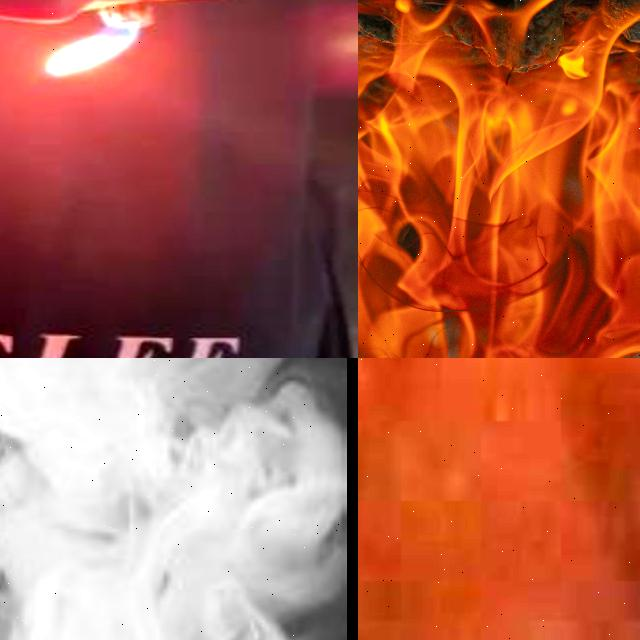fire: (358, 0, 640, 358), (44, 2, 154, 78)
smoke: (0, 358, 345, 640), (358, 358, 640, 640)
